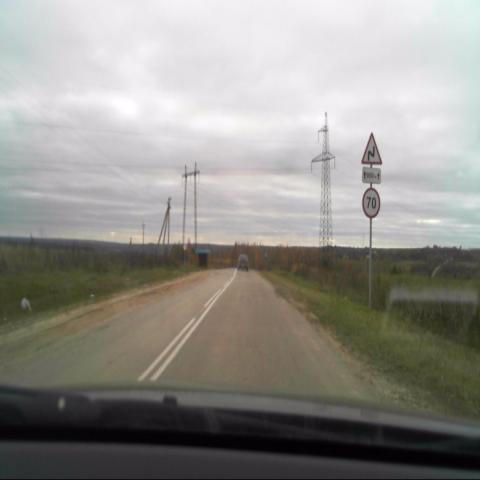1_12: (362, 131, 382, 164)
